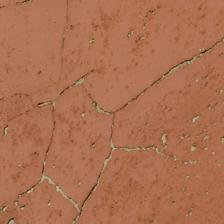Crack: (0, 18, 99, 99), (37, 79, 177, 118), (31, 2, 95, 82), (68, 39, 155, 82), (83, 0, 121, 87)
